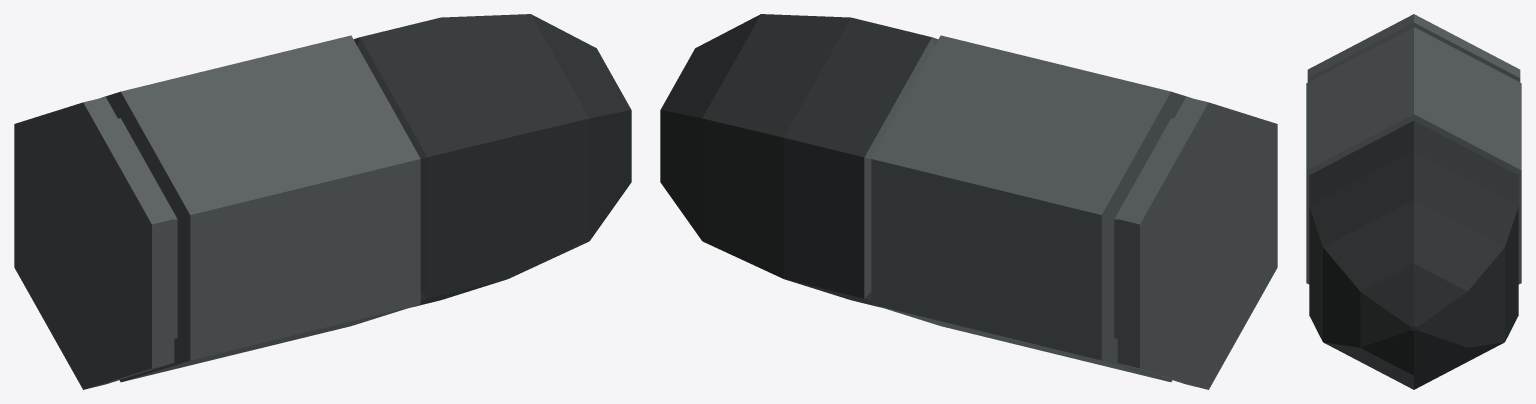
The model's file is Bullet.fbx.
3 renders of one model, left to right at view 1: azimuth 30°, elevation 25°; view 2: azimuth 150°, elevation 25°; view 3: azimuth 270°, elevation 25°, orthographic. The views are drawn at different scales.
Visible parts, largest first — view 1: Zylinder; view 2: Zylinder; view 3: Zylinder.
Part boxes in pixels (<box>): Zylinder: <box>14,14,631,389</box>; Zylinder: <box>660,14,1277,389</box>; Zylinder: <box>1306,14,1521,389</box>.
Bounding box in the file's own units: 0.0917 × 0.0474 × 0.041.
